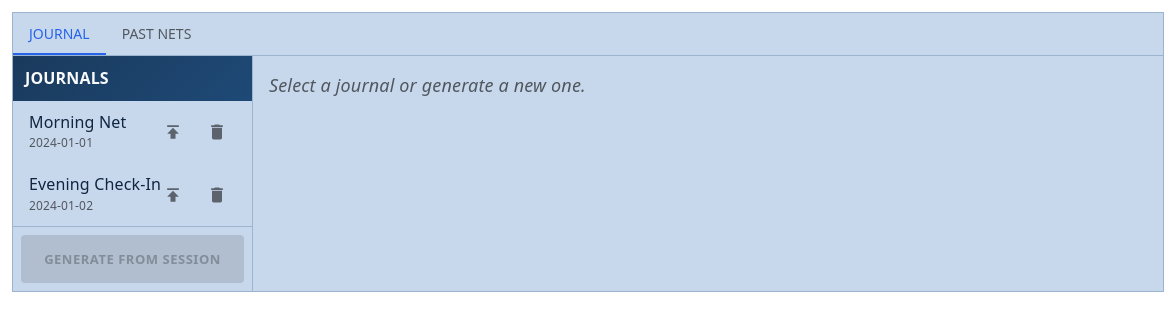
it: JournalPanel › delete flow › first delete click changes button label to Confirm delete
Click the 1st button named "delete journal": (217, 132) [195,110,239,154]
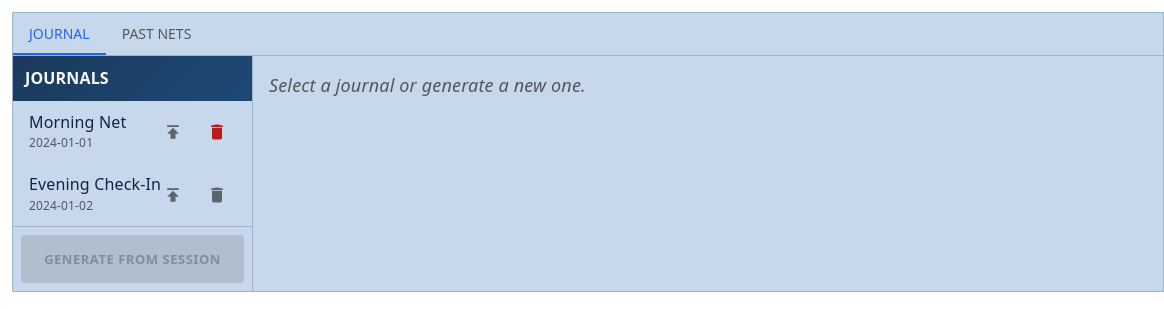
Expected: the button named "confirm delete" is shown, [195,110,239,154]
